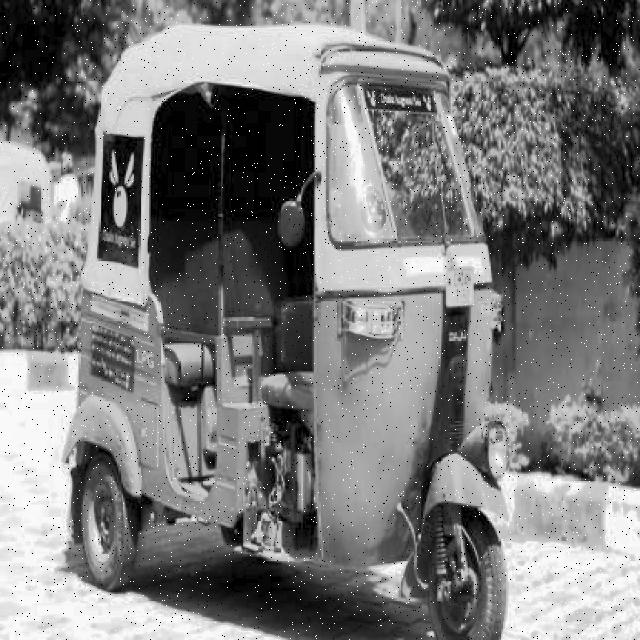Auto-Rickshaw: (66, 20, 514, 638)
